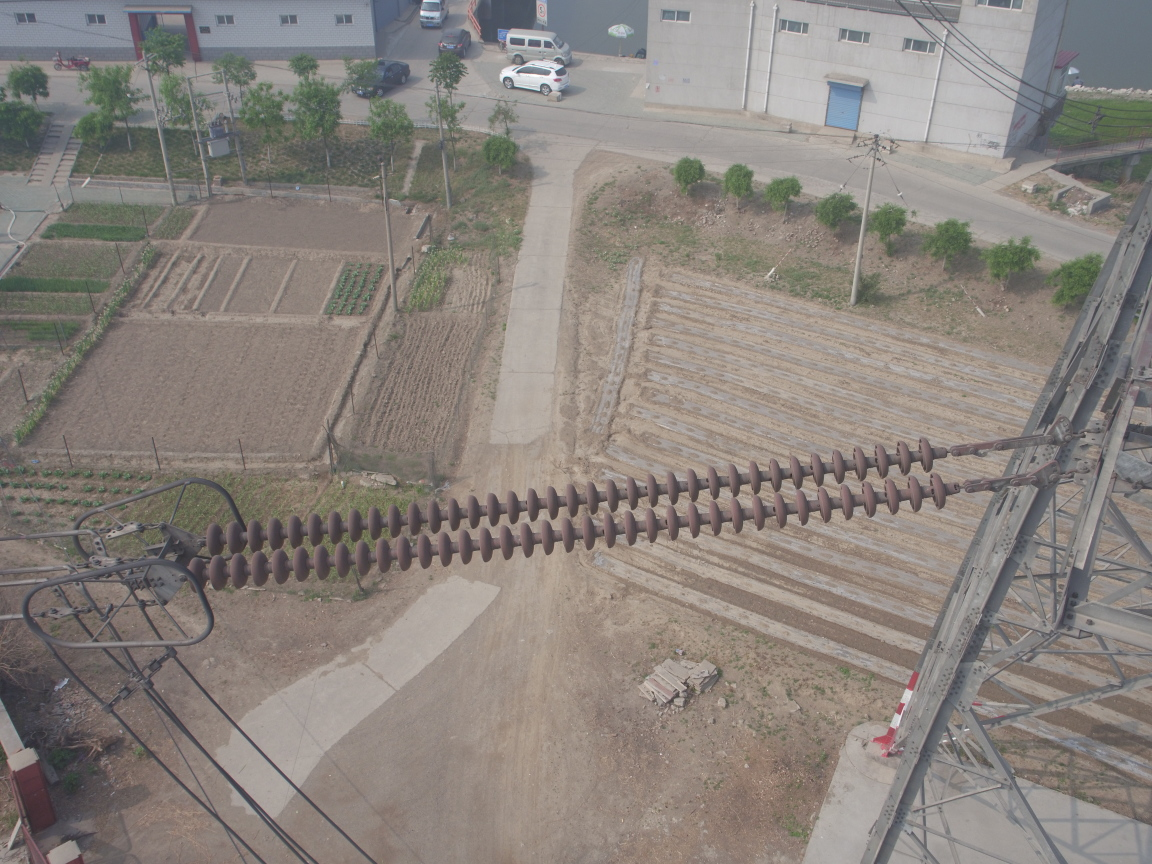insulator: (167, 425, 995, 597)
